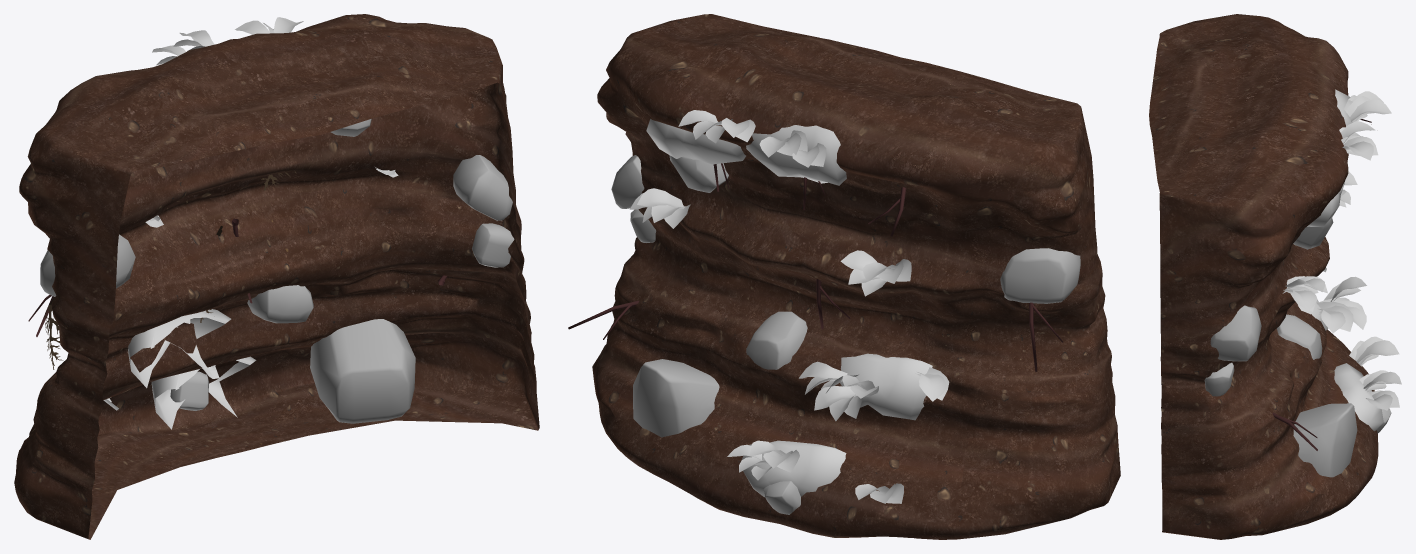
The model's file is Jordvgg_mitt3.fbx.
3 renders of one model, left to right at view 1: azimuth 30°, elevation 25°; view 2: azimuth 150°, elevation 25°; view 3: azimuth 270°, elevation 25°, orthographic. The views are drawn at different scales.
Visible parts, largest first — view 1: Cliffstone:polySurface4785; view 2: Cliffstone:polySurface4785; view 3: Cliffstone:polySurface4785.
Part boxes in pixels (box(x1,y1,x2,y2)): Cliffstone:polySurface4785: box(14, 14, 539, 539); Cliffstone:polySurface4785: box(568, 14, 1120, 539); Cliffstone:polySurface4785: box(1149, 14, 1401, 539).
Size of the model in its own units: 550 by 422 by 265.
